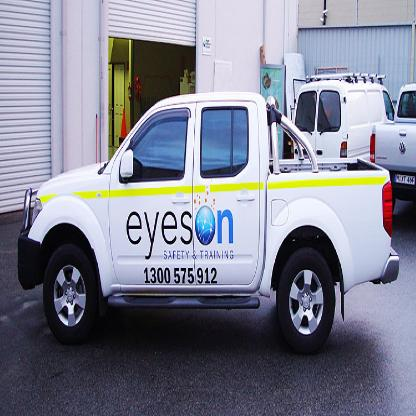light_vehicle: (12, 82, 400, 355)
